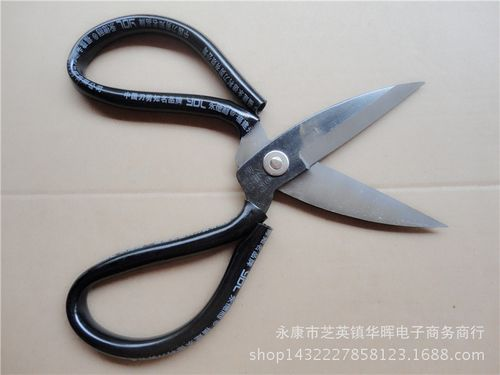scissor: (18, 11, 449, 365)
